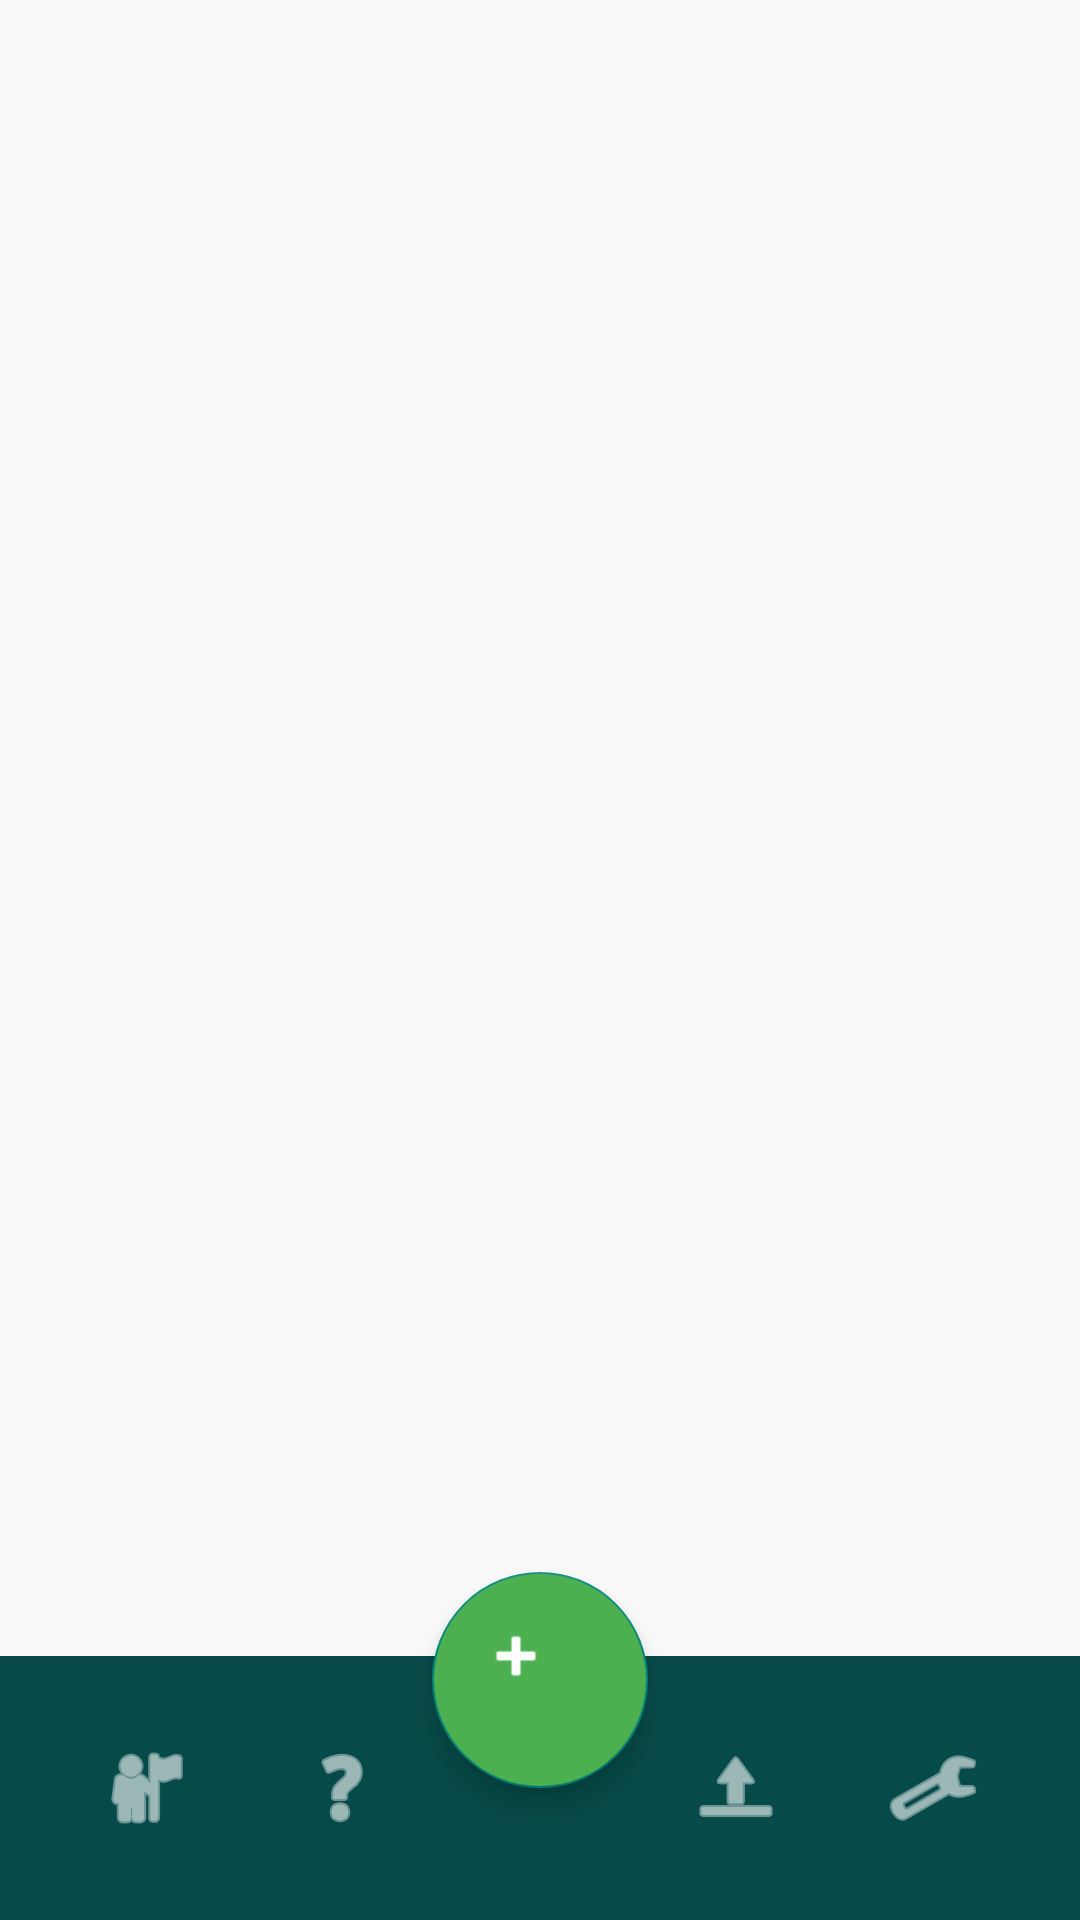

Where to tap for icons on this 1080 × 1920 app screen, as (x=x, y=y):
add: (x=540, y=1680)
help: (x=342, y=1788)
manage: (x=933, y=1788)
myplaces: (x=147, y=1788)
upload: (x=736, y=1786)
